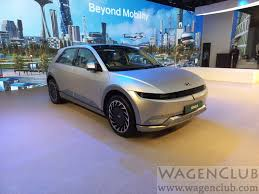Honda Ioniq: (39, 35, 214, 147)
